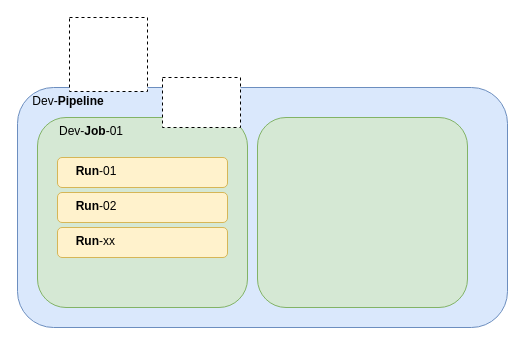
The diagram is 525 pixels wide and 345 high, and some of its shapes have lost their labels. Each missing label, with the centre of its shape:
defines: - API Key - schedule: pixel 201 102
defines: - notebooks - order - I/O Params - enviroment: pixel 108 54
Dev- Job -02: pixel 362 212
